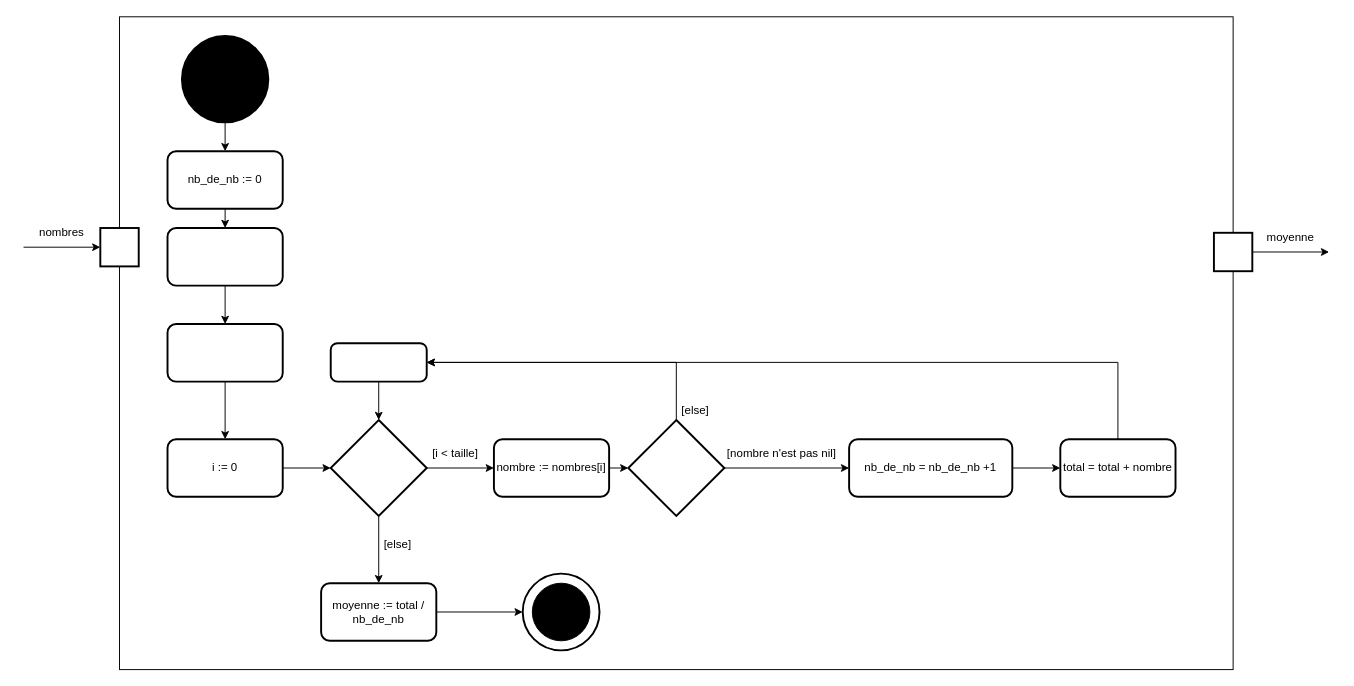
Image size: 1354x686. Some labels were removed from this diagram. The shapes that lost their labels are listed below. From the top down, each one's centre as x and y in pixels, then its label:
At (x=224, y=256): "total := 0".
At (x=224, y=352): "taille := longueur de points".
At (x=378, y=362): "i = i + 1".
